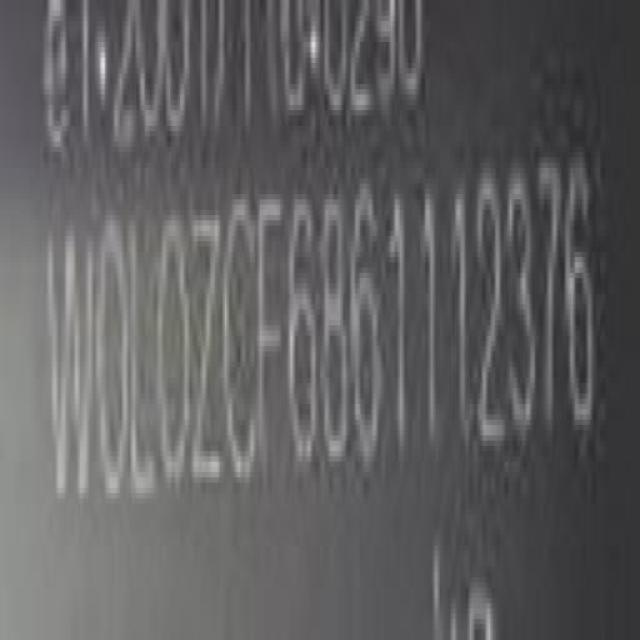0: (156, 207, 191, 500), (98, 219, 130, 513)
1: (450, 168, 472, 464), (392, 179, 414, 473), (416, 174, 437, 470)
2: (474, 163, 503, 460)
3: (510, 159, 536, 454)
6: (290, 188, 320, 488), (352, 183, 382, 477), (566, 147, 596, 441)
7: (540, 150, 564, 443)
B: (320, 188, 348, 481)
C: (223, 196, 257, 499)
F: (257, 200, 286, 494)
L: (128, 218, 157, 496)
W: (46, 224, 93, 518)
Z: (192, 197, 223, 504)
